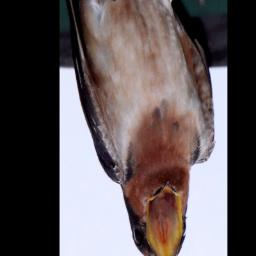Swallow: (65, 0, 216, 256)
